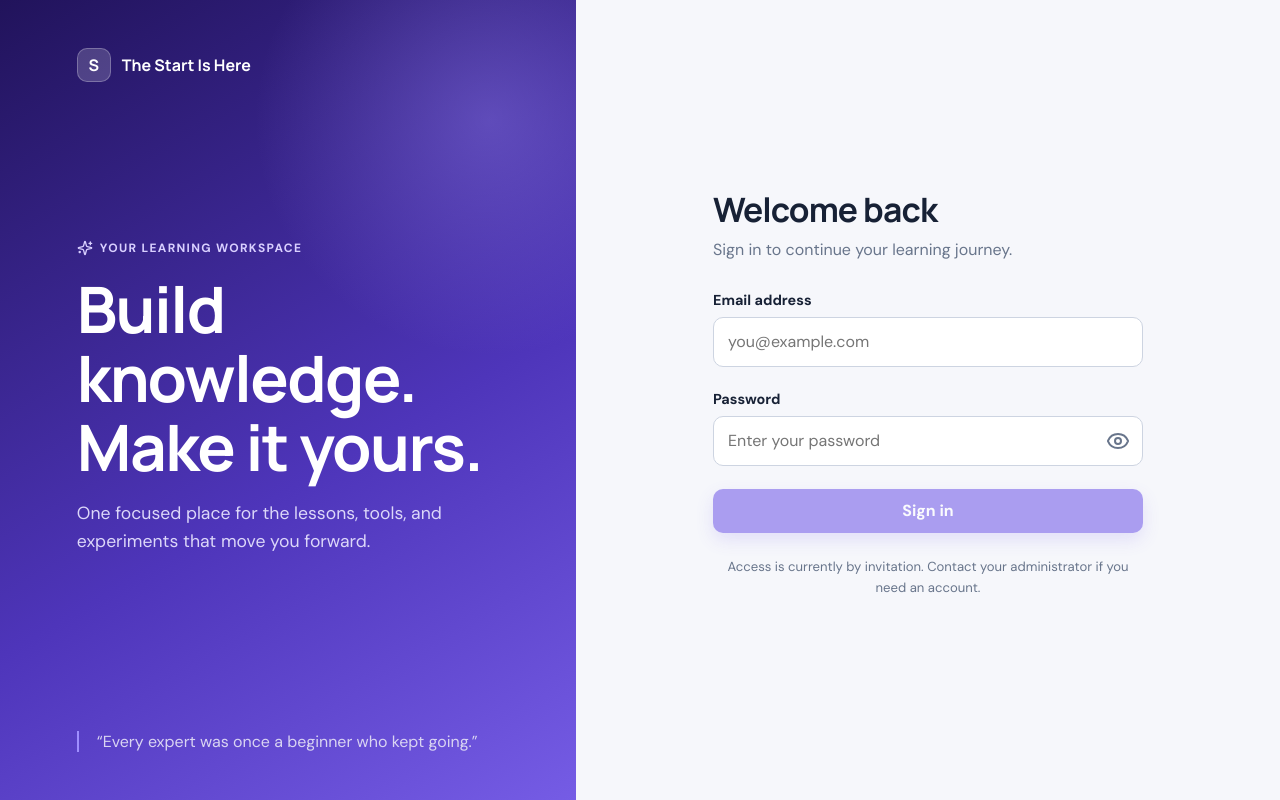
Scenario: login experience › logs in and lands on the dashboard
Check: the heading "Welcome back" is shown, box top-left (713, 186), bottom-right (937, 232)
In the field labelled "Email address": (928, 342) top-left (713, 317), bottom-right (1143, 367), type "learner@example.com"
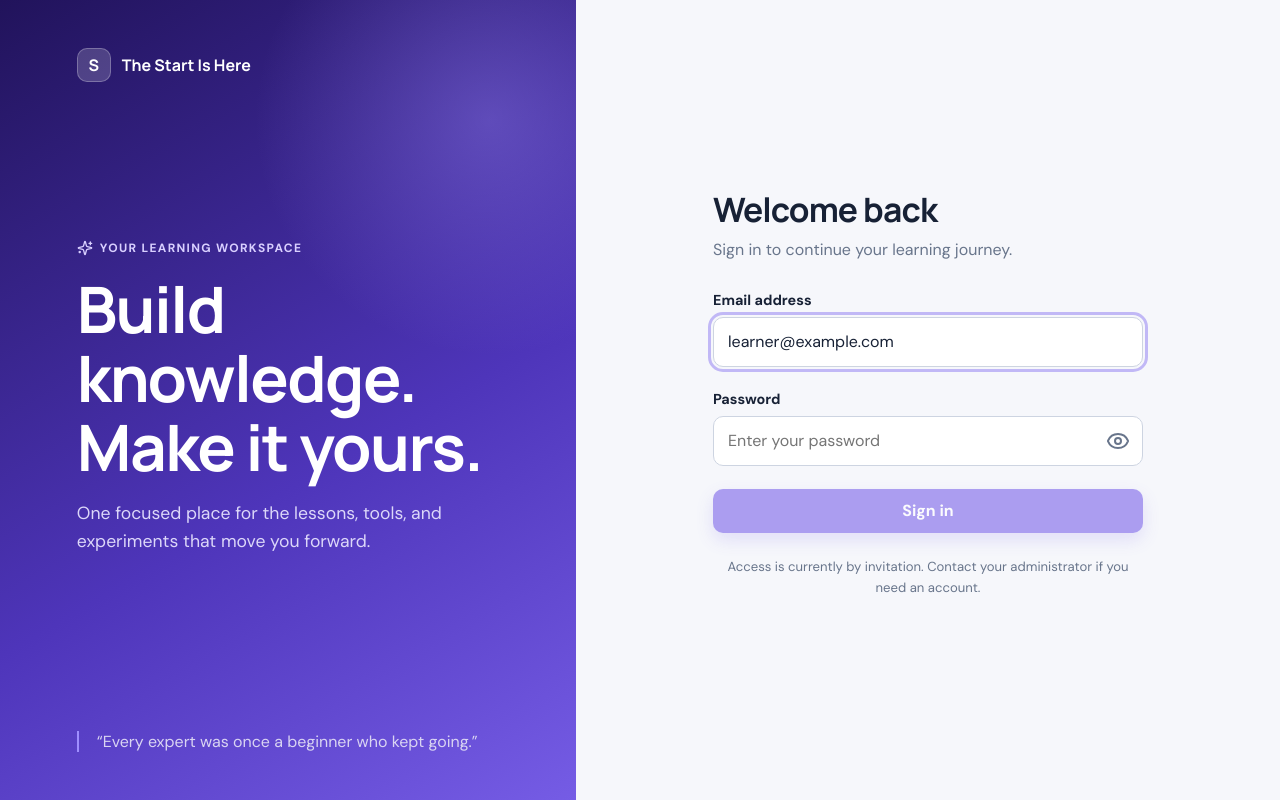
In the password field labelled "Password": (928, 441) top-left (713, 416), bottom-right (1143, 466), type "correct-password"
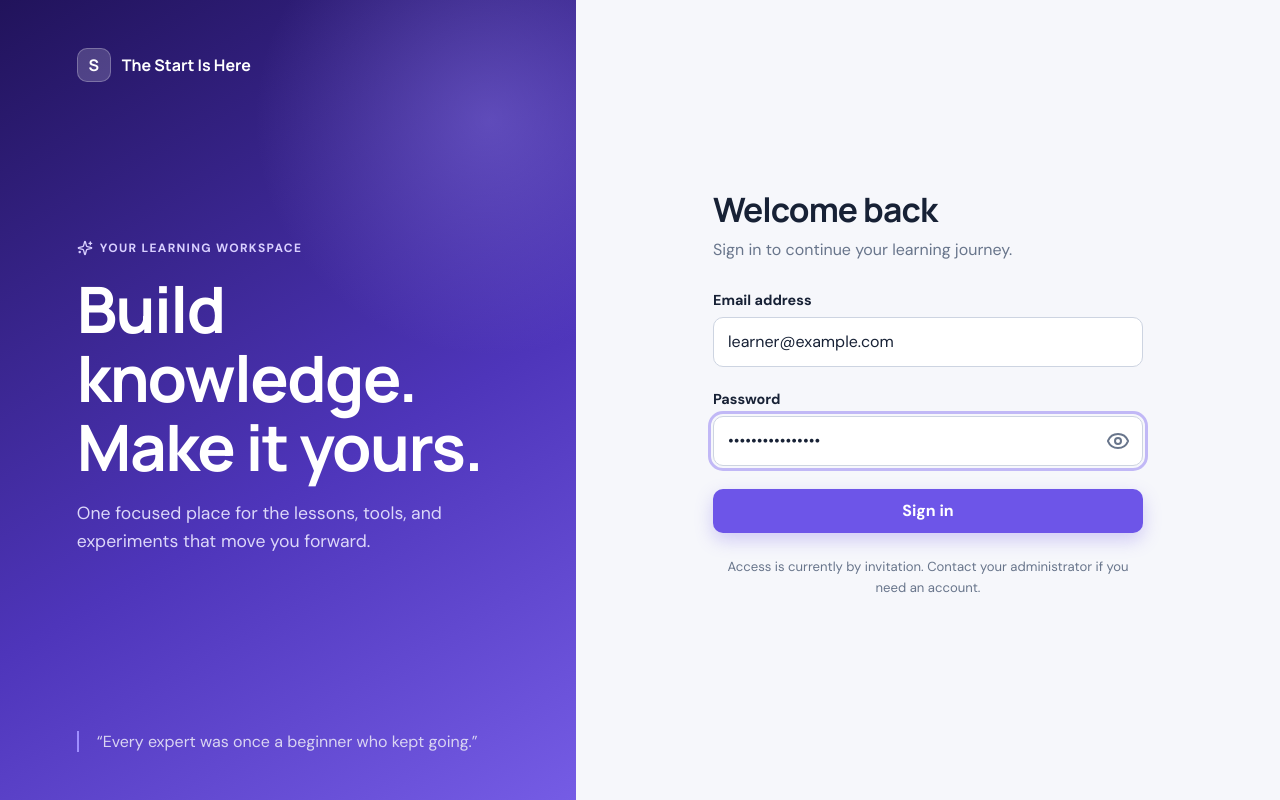
Click the button "Sign in": (928, 511) top-left (713, 489), bottom-right (1143, 533)
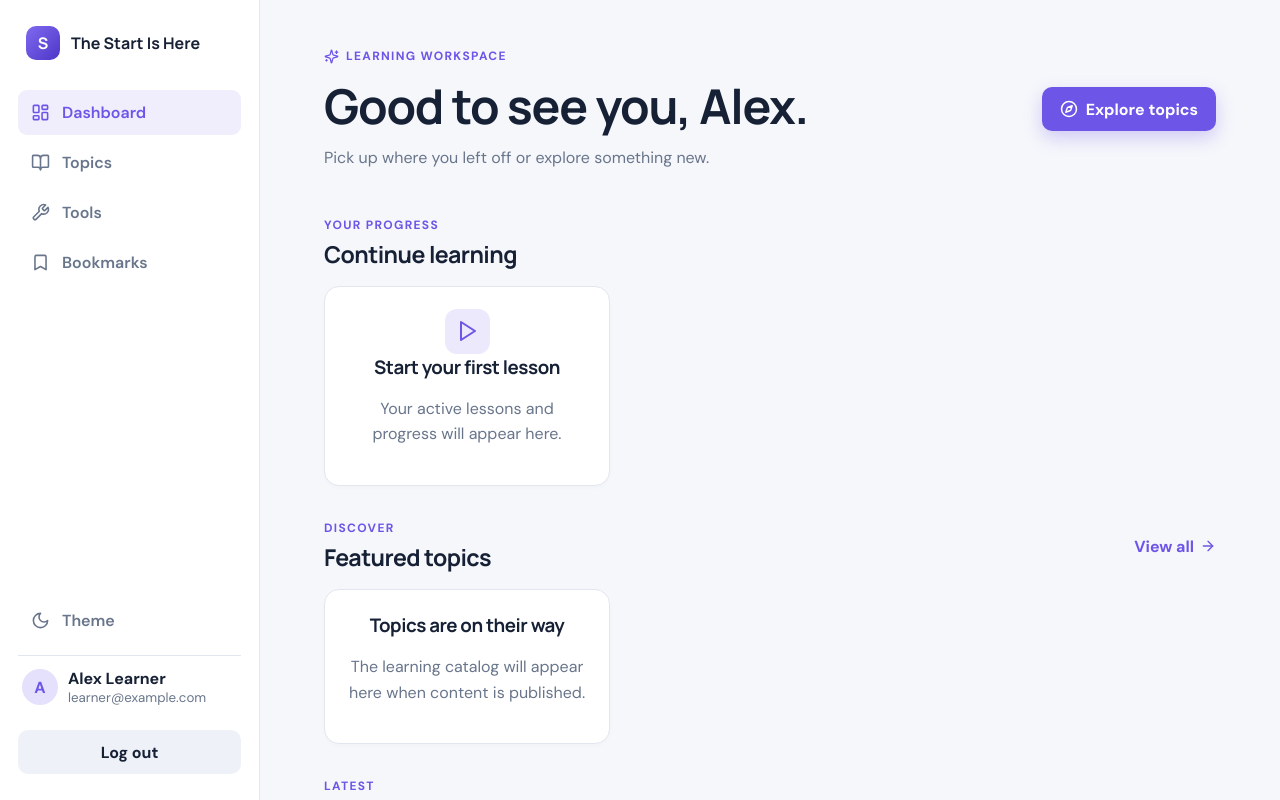
Check: the heading "Good to see you, Alex." is shown, box top-left (324, 73), bottom-right (808, 138)
